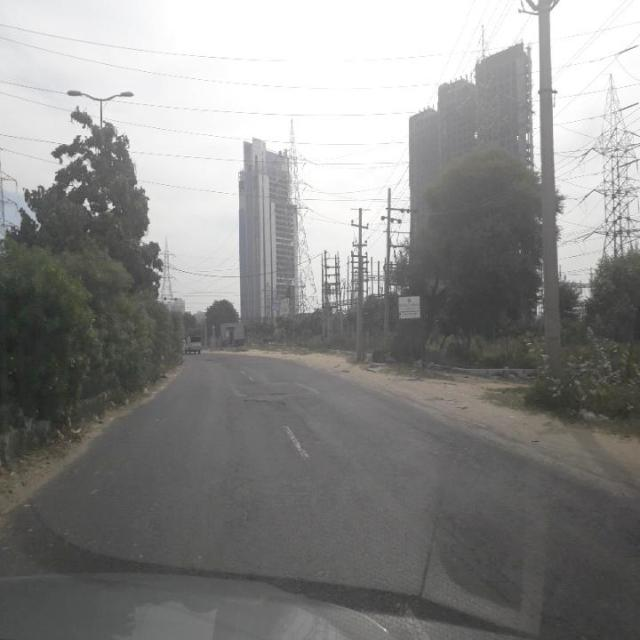pothole: (439, 511, 559, 639), (198, 366, 264, 566)
